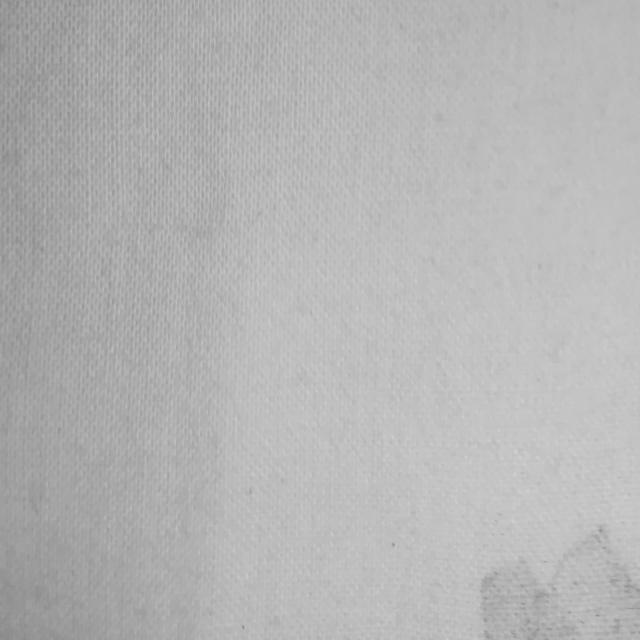Stain: (483, 527, 640, 640)
